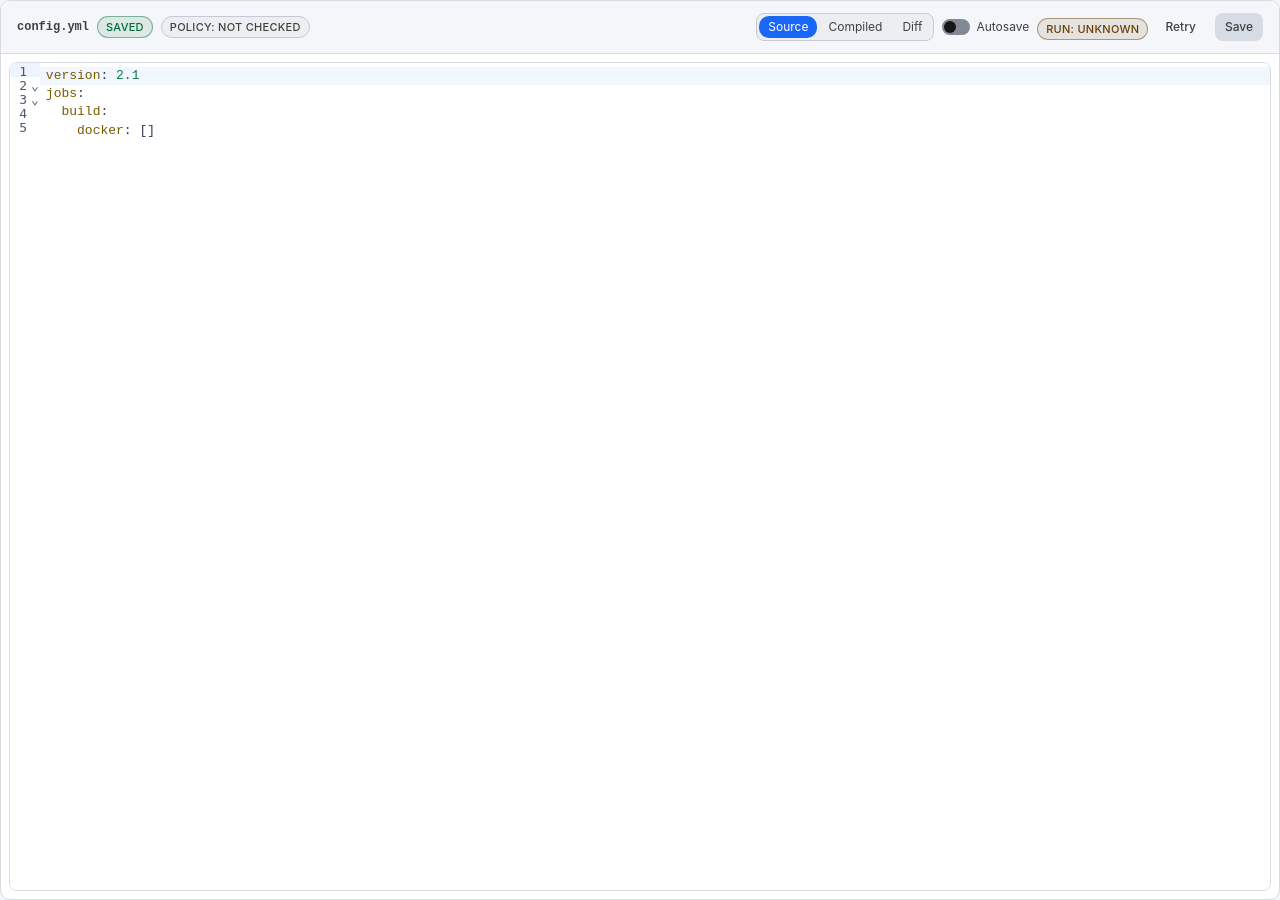
Scenario: YamlPane › the Diff view › states "no changes" plainly rather than rendering an empty pane, when the buffer matches disk
Click the button "Diff": {"x": 912, "y": 27} [893,16,931,38]
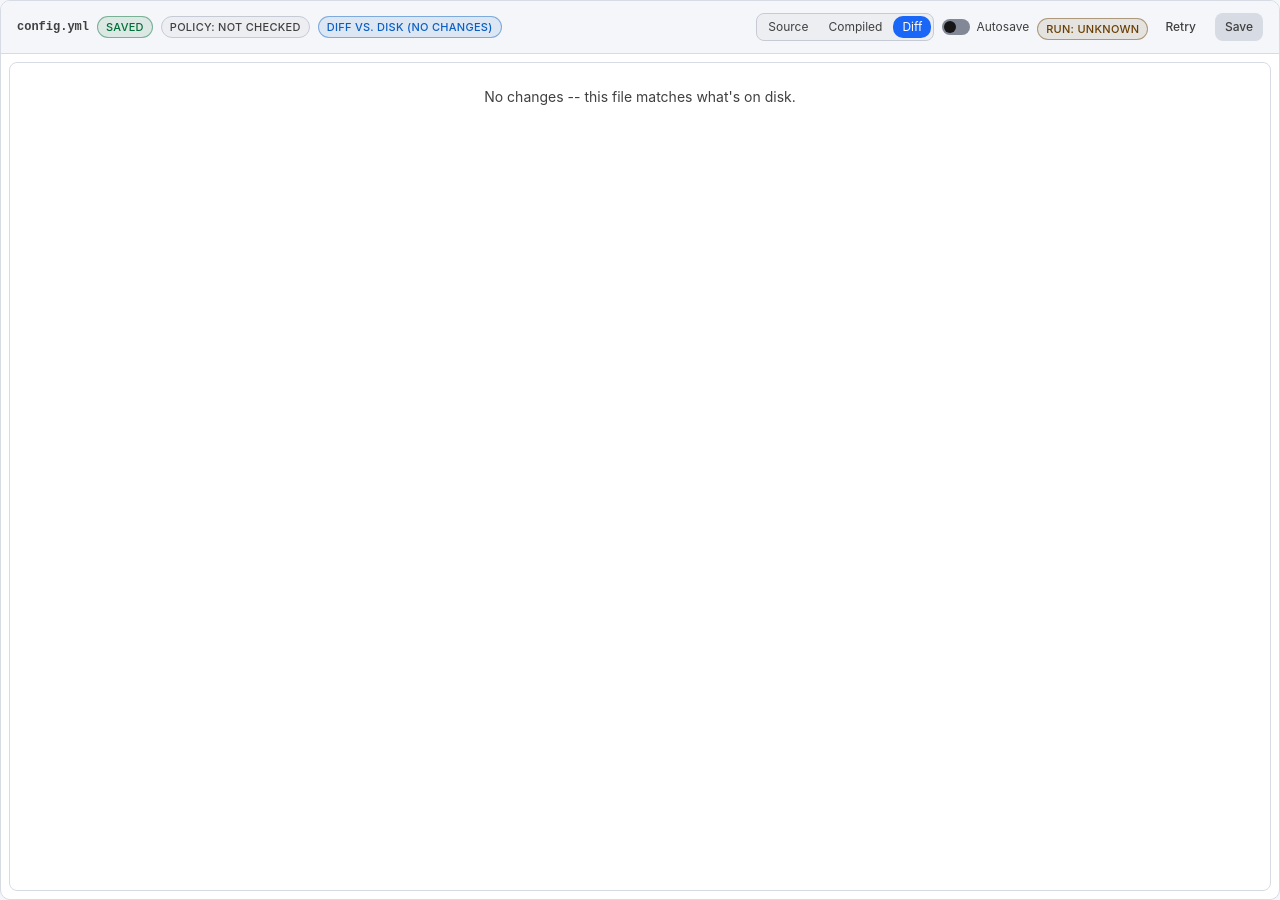
Result: the text "No changes -- this file matches what's on disk." is shown at [484,88,796,105]
Result: the text "Diff vs. disk (no changes)" is shown at [318,16,502,38]
